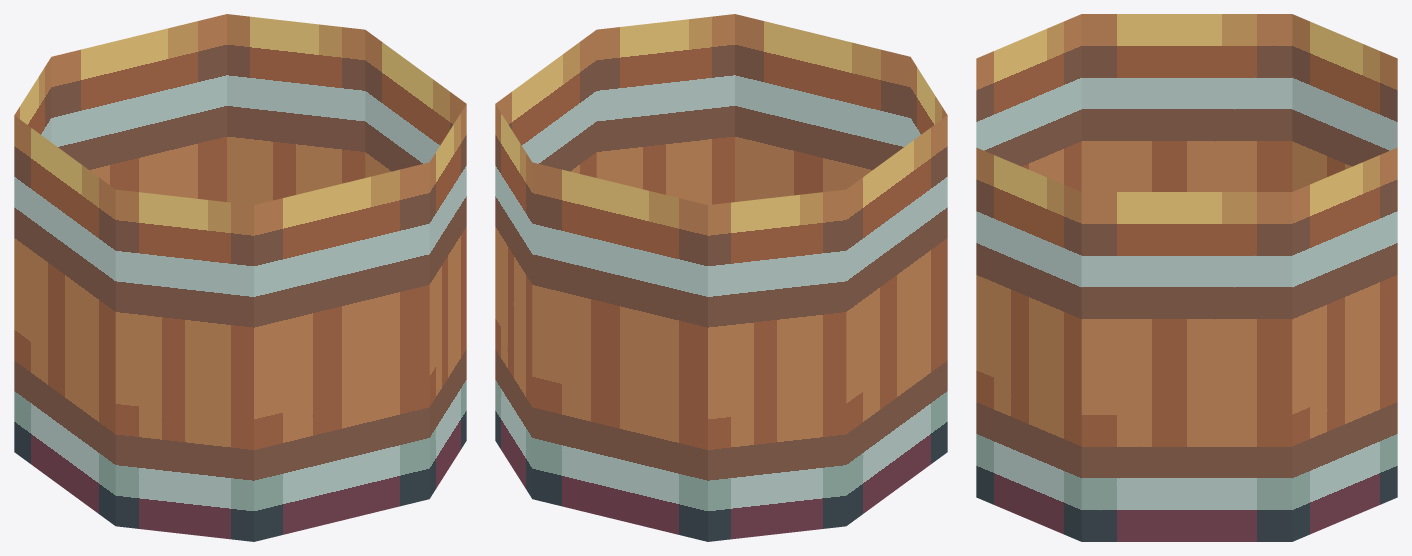
3 renders of one model, left to right at view 1: azimuth 30°, elevation 25°; view 2: azimuth 150°, elevation 25°; view 3: azimuth 270°, elevation 25°, orthographic. The views are drawn at different scales.
Bounding box in the file's own units: 0.75 × 0.6876 × 0.75.
Materials: 1 (1 with a texture image).
